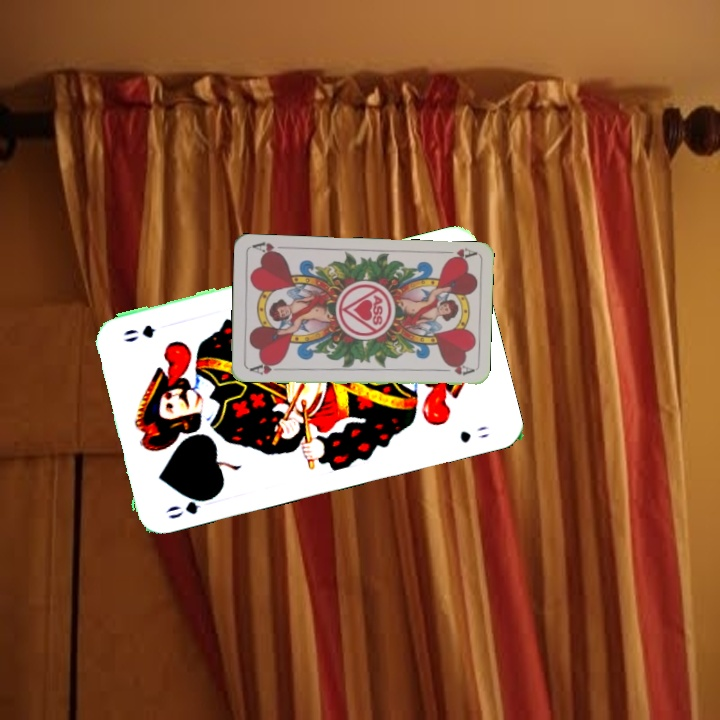GO: (162, 492, 216, 522)
HA: (437, 244, 478, 264), (246, 358, 285, 377)
